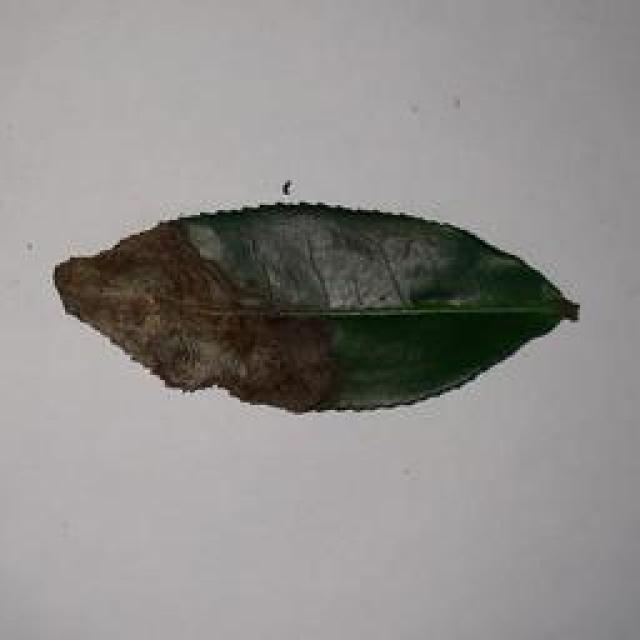Brown Blight: (52, 193, 591, 424)
